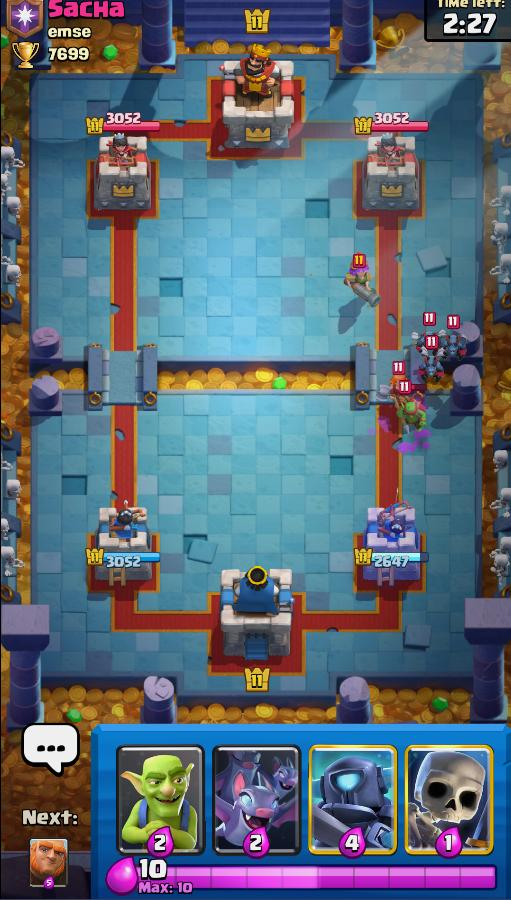gargouille: (409, 329, 447, 355), (416, 353, 449, 382), (444, 332, 468, 357)
gobelin_lances: (401, 399, 427, 433)
mousquetaire: (343, 258, 381, 306), (382, 372, 412, 406)
